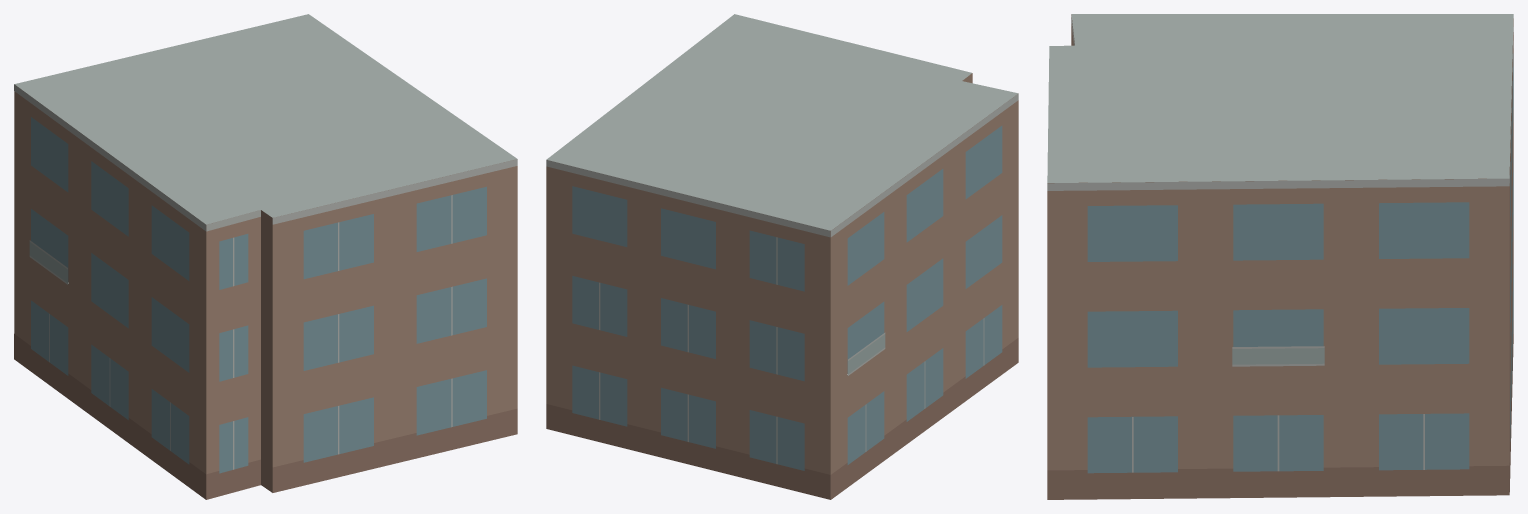
File: survey-upis-32777864.glb
3 views of the same model, side by side, from view 1: azimuth 30°, elevation 25°; view 2: azimuth 150°, elevation 25°; view 3: azimuth 270°, elevation 25° (orthographic). The views are drawn at different scales.
Visible parts, largest first — view 1: survey-upis-32777864.tmp; view 2: survey-upis-32777864.tmp; view 3: survey-upis-32777864.tmp.
Boxes of the visible parts, x1,y1,x2,y2 form: survey-upis-32777864.tmp: (14,14,517,499); survey-upis-32777864.tmp: (546,14,1018,499); survey-upis-32777864.tmp: (1047,14,1513,499).
Size of the model in its own units: 11.26 by 9.8 by 13.08.
